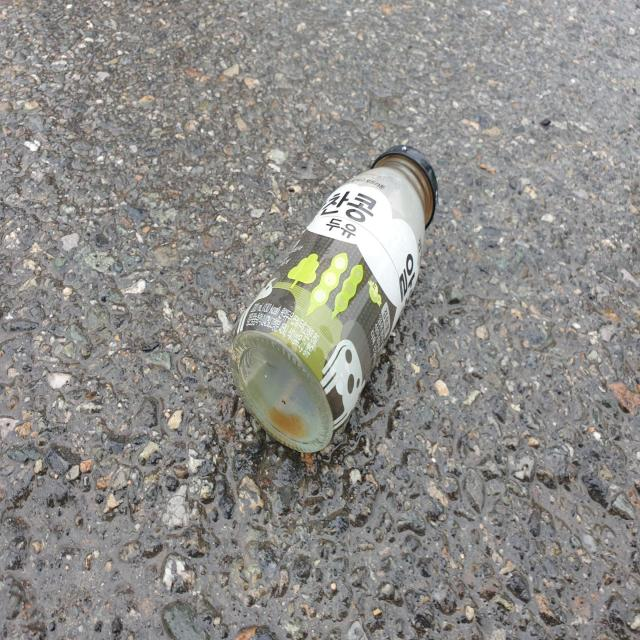glass: (231, 146, 438, 453)
